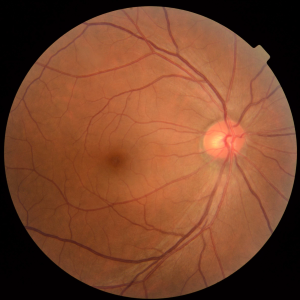healthy_eye: (35, 79, 269, 199)
